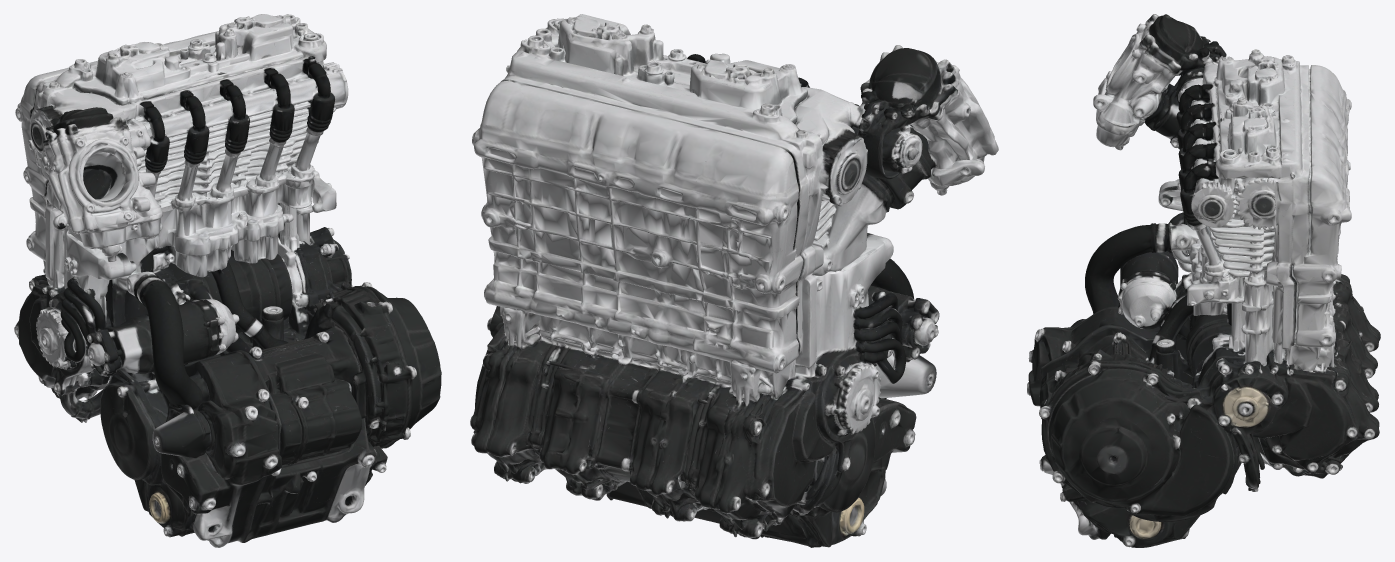
Rendered from mesin-bensin-hq.glb.
3 renders of one model, left to right at view 1: azimuth 30°, elevation 25°; view 2: azimuth 150°, elevation 25°; view 3: azimuth 270°, elevation 25°, orthographic. The views are drawn at different scales.
Size of the model in its own units: 1.63 by 1.9 by 1.43.
Materials: 1 (1 with a texture image).
